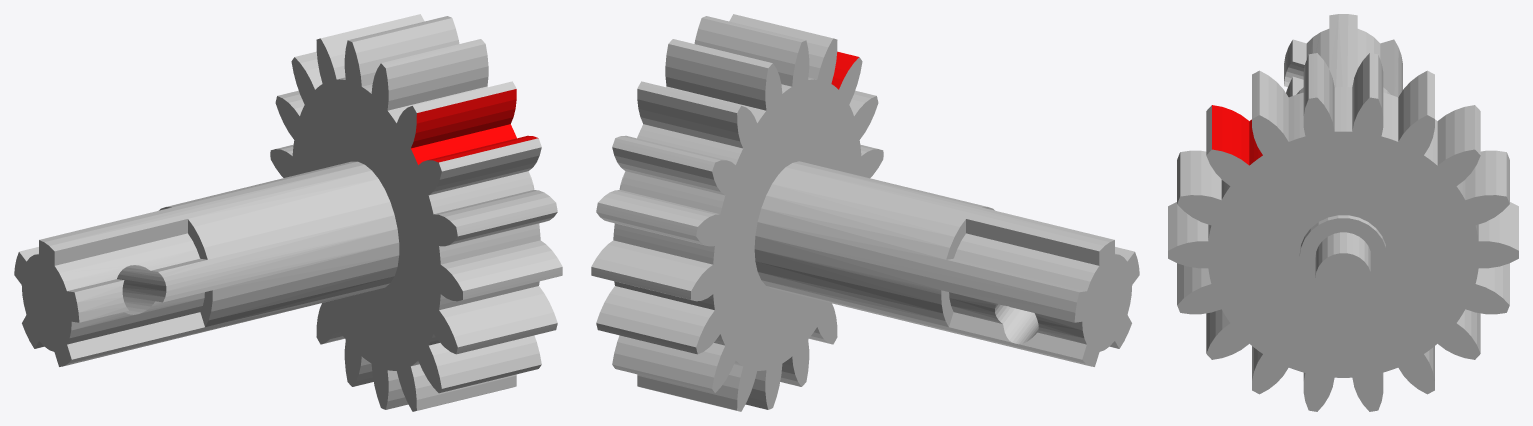
File: Pinho_stp_84_85_86.obj
3 views of the same model, side by side, from view 1: azimuth 30°, elevation 25°; view 2: azimuth 150°, elevation 25°; view 3: azimuth 270°, elevation 25° (orthographic). The views are drawn at different scales.
Parts seen in each view (by area): view 1: Object1; view 2: Object1; view 3: Object1.
Part boxes in pixels (x1,y1,x2,y2): Object1: (14, 14, 562, 411); Object1: (591, 14, 1139, 411); Object1: (1168, 14, 1518, 411).
Size of the model in its own units: 71 by 49.44 by 50.
